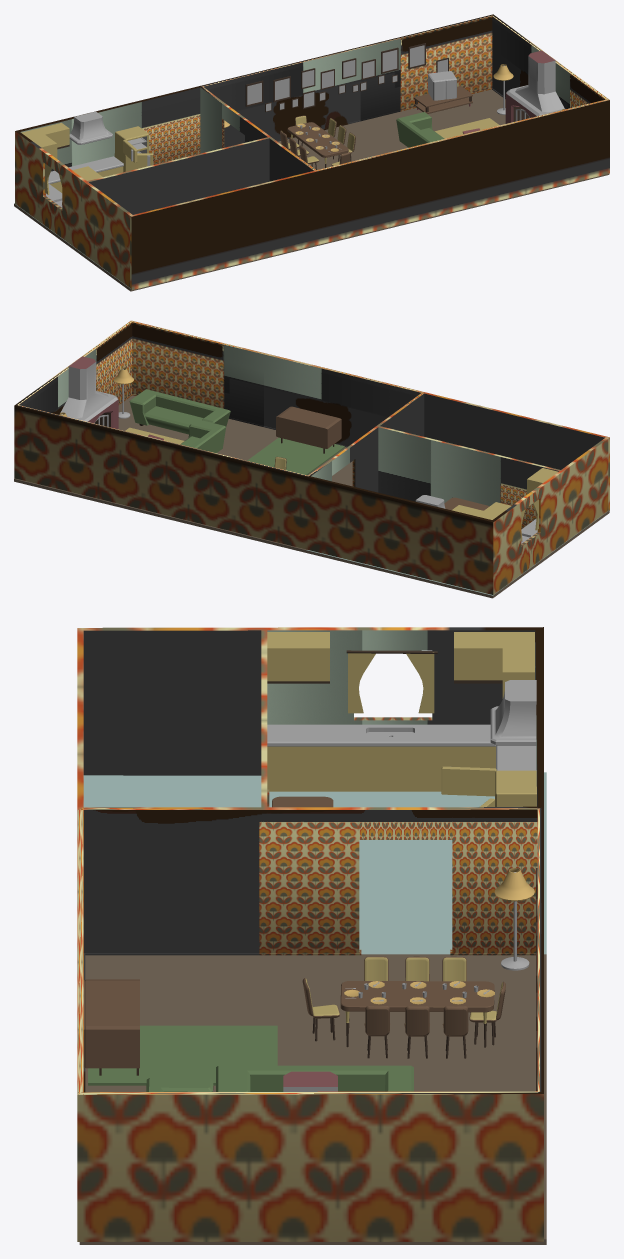
Rendered from CompleteRoom_70s_v1.fbx.
3 views of the same model, one above another, from view 1: azimuth 30°, elevation 25°; view 2: azimuth 150°, elevation 25°; view 3: azimuth 270°, elevation 25° (orthographic). The views are drawn at different scales.
Parts seen in each view (by area): view 1: pCube171; view 2: pCube171; view 3: pCube171.
Boxes of the visible parts, x1=… form: pCube171: x1=14, y1=14, x2=609, y2=291; pCube171: x1=14, y1=320, x2=609, y2=598; pCube171: x1=77, y1=627, x2=546, y2=1244.
Size of the model in its own units: 180 by 27.91 by 76.41.
